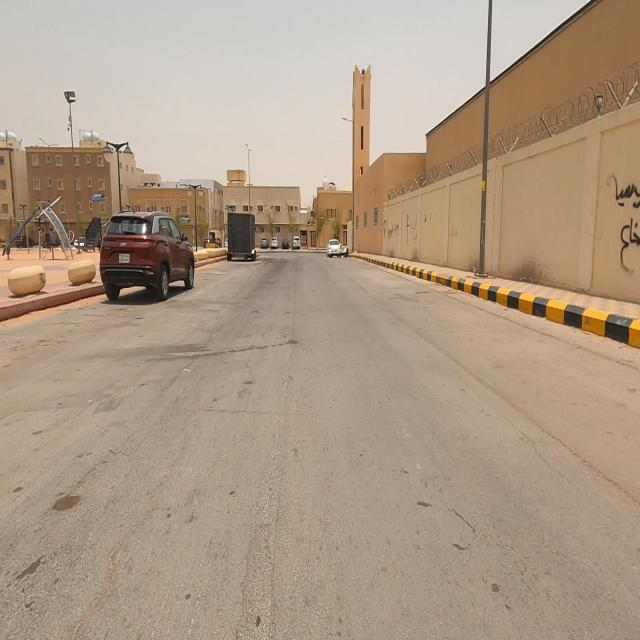Graffiti: (606, 173, 640, 275), (412, 216, 420, 243), (389, 224, 400, 241), (406, 213, 411, 244), (451, 228, 460, 239), (384, 221, 388, 241), (430, 214, 434, 222), (425, 215, 428, 225)
